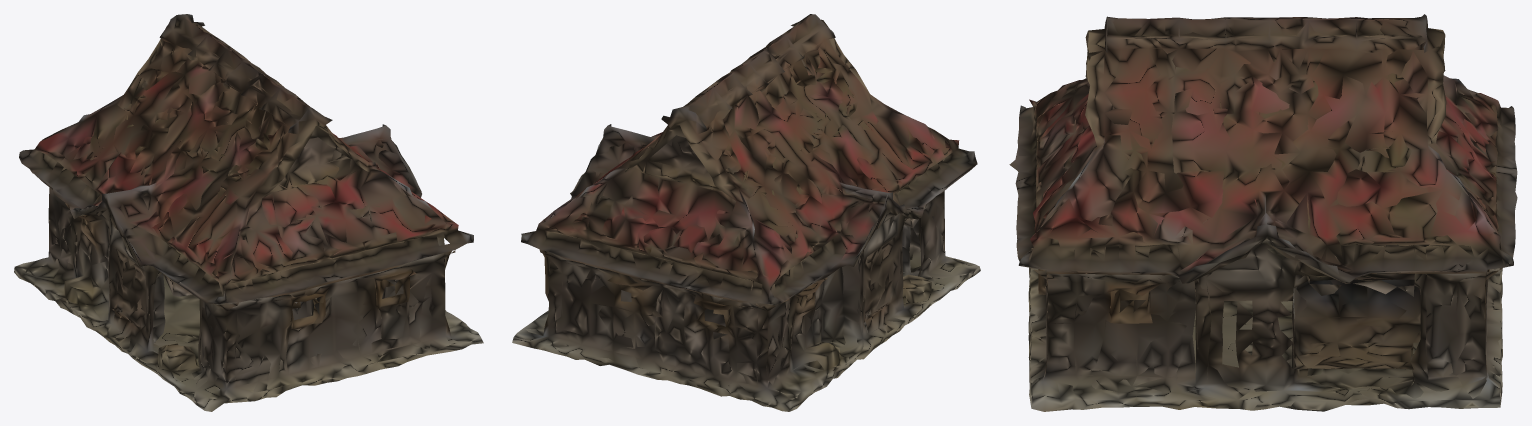
The model's file is farmhouse_b.1.glb.
3 renders of one model, left to right at view 1: azimuth 30°, elevation 25°; view 2: azimuth 150°, elevation 25°; view 3: azimuth 270°, elevation 25°, orthographic. The views are drawn at different scales.
Parts seen in each view (by area): view 1: lod; view 2: lod; view 3: lod.
Part boxes in pixels (box(x1,y1,x2,y2)): lod: box(14, 14, 483, 411); lod: box(512, 14, 980, 411); lod: box(1009, 14, 1517, 411).
Size of the model in its own units: 0.7909 by 0.6594 by 0.985.
